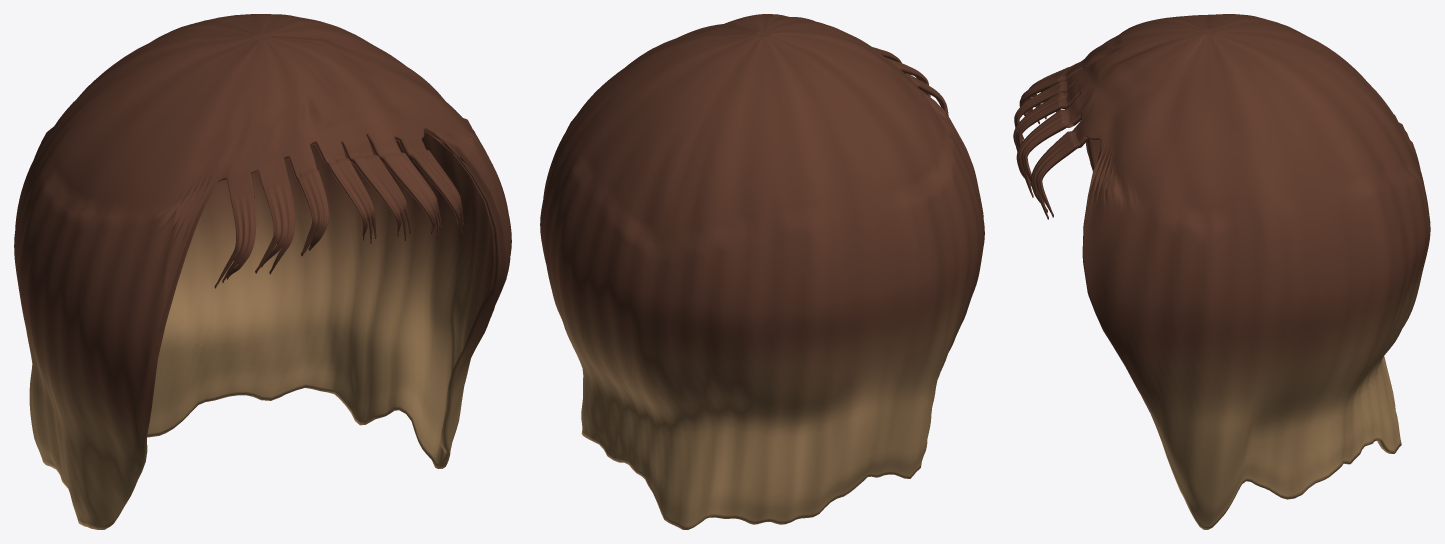
File: side-sweep-headband-ombre.glb
3 views of the same model, side by side, from view 1: azimuth 30°, elevation 25°; view 2: azimuth 150°, elevation 25°; view 3: azimuth 270°, elevation 25° (orthographic). The views are drawn at different scales.
Parts seen in each view (by area): view 1: Wispy bangs / continuous crown; view 2: Wispy bangs / continuous crown; view 3: Wispy bangs / continuous crown.
Boxes of the visible parts, x1=… form: Wispy bangs / continuous crown: x1=14, y1=14, x2=511, y2=529; Wispy bangs / continuous crown: x1=540, y1=14, x2=984, y2=529; Wispy bangs / continuous crown: x1=1013, y1=14, x2=1430, y2=529.
Size of the model in its own units: 0.8388 by 0.8786 by 0.788.
